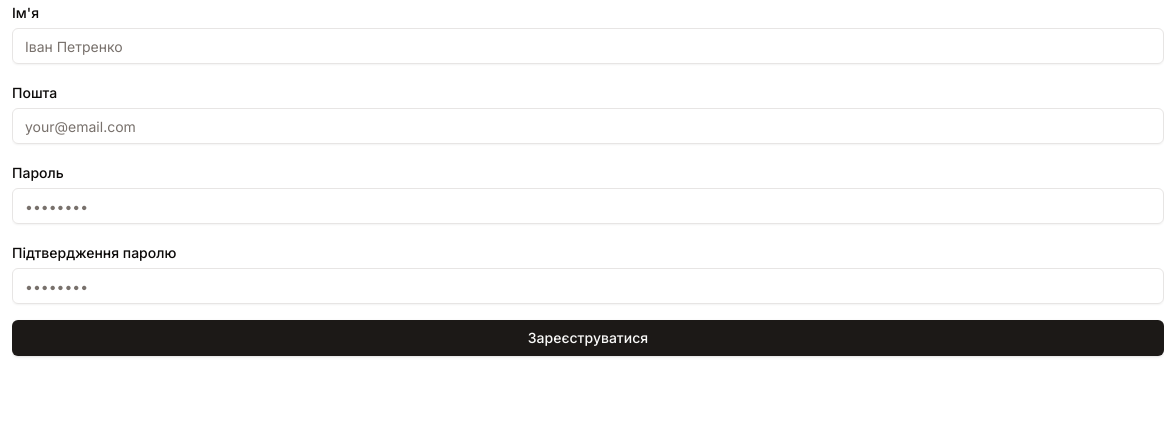
Test case: SignUpForm Integration › validates form fields before submission
The width and height of the screenshot is (1176, 434).
Type "Test User" into the field labelled "Ім'я" at (588, 46), box [12,28,1164,64]
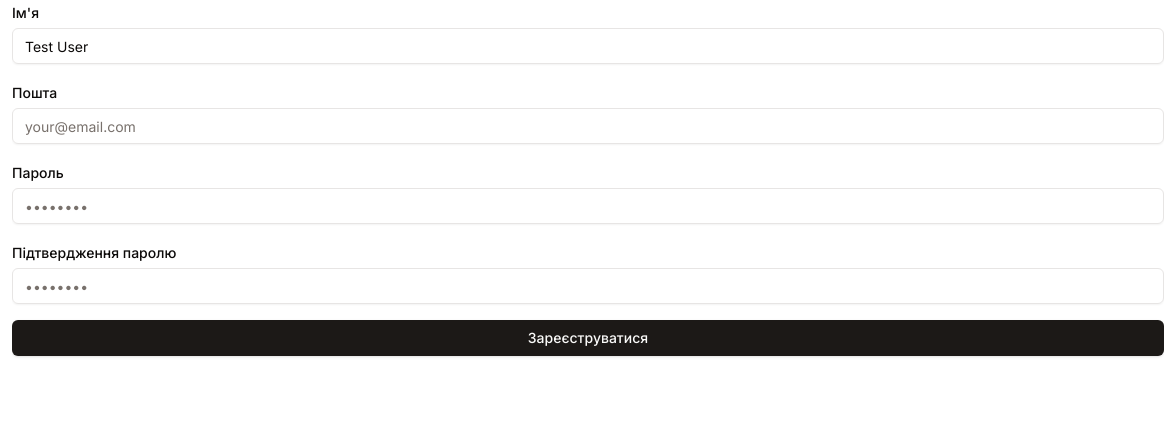
Type "test@t.t" into the field labelled "Пошта" at (588, 126), box [12,108,1164,144]
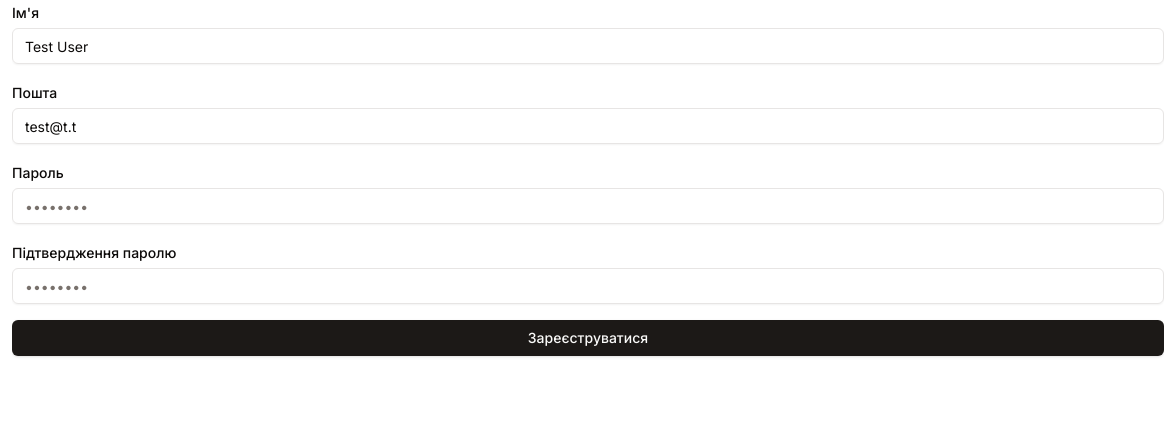
Type "pass" into the password field labelled "Пароль" at (588, 206), box [12,188,1164,224]
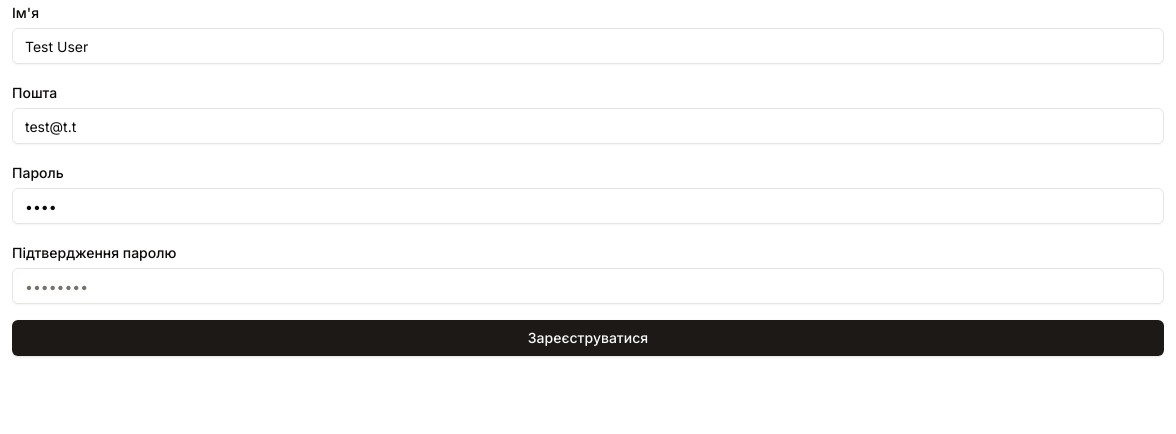
Type "pass" into the password field labelled "Підтвердження паролю" at (588, 286), box [12,268,1164,304]
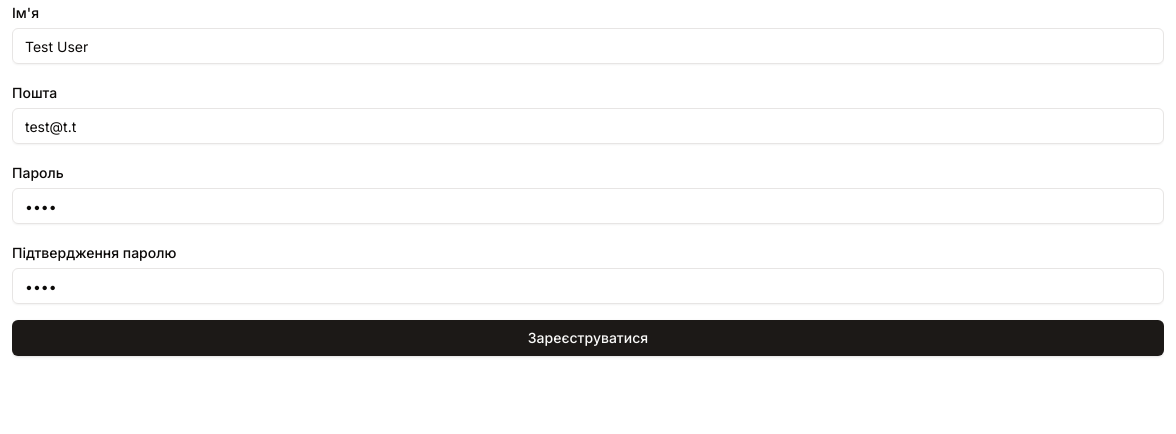
Click the button "Зареєструватися" at (588, 338), box [12,320,1164,356]
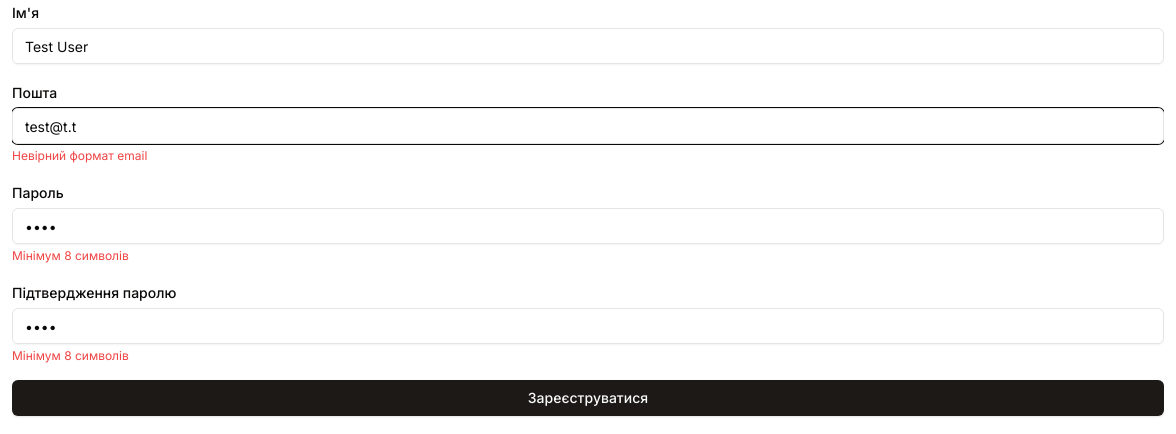
Result: the text "Невірний формат email" is shown at [12,148,147,163]
Result: the text "Мінімум 8 символів" is shown 2 times at [12,248,129,263]; [12,348,129,363]
